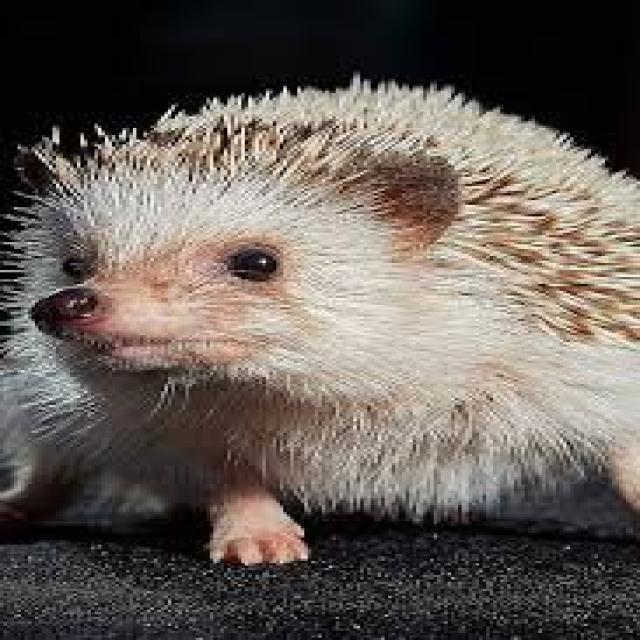Hedgehog: (0, 70, 640, 572)
